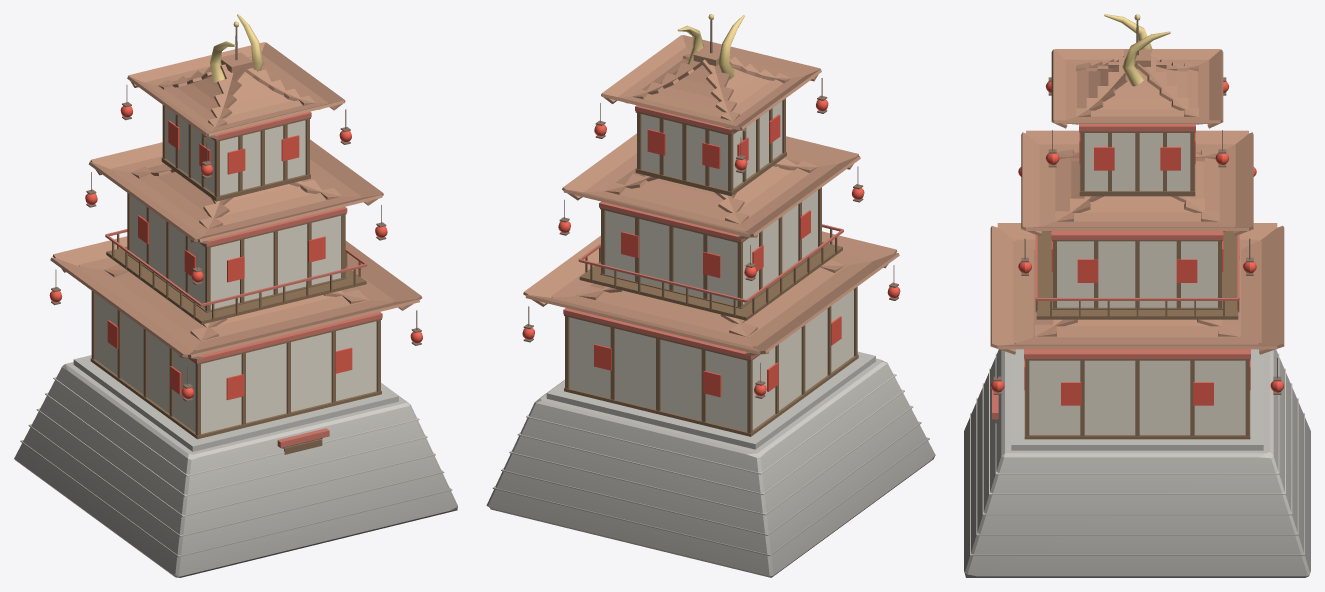
Rendered from dach_kuro.glb.
3 views of the same model, side by side, from view 1: azimuth 30°, elevation 25°; view 2: azimuth 150°, elevation 25°; view 3: azimuth 270°, elevation 25° (orthographic). The views are drawn at different scales.
Visible parts, largest first — view 1: G_dach_kuro; view 2: G_dach_kuro; view 3: G_dach_kuro.
Part boxes in pixels (left/top/right/bottom): G_dach_kuro: left=14, top=14, right=457, bottom=577; G_dach_kuro: left=486, top=14, right=935, bottom=577; G_dach_kuro: left=964, top=14, right=1310, bottom=577.
Bounding box in the file's own units: 15.13 × 23.62 × 15.13.
